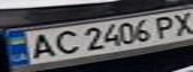0: (118, 20, 139, 46)
2: (78, 25, 106, 53)
4: (103, 21, 124, 48)
6: (133, 17, 157, 43)
A: (24, 30, 60, 61)
C: (48, 28, 81, 56)
P: (151, 14, 181, 39)
X: (166, 10, 193, 37)
